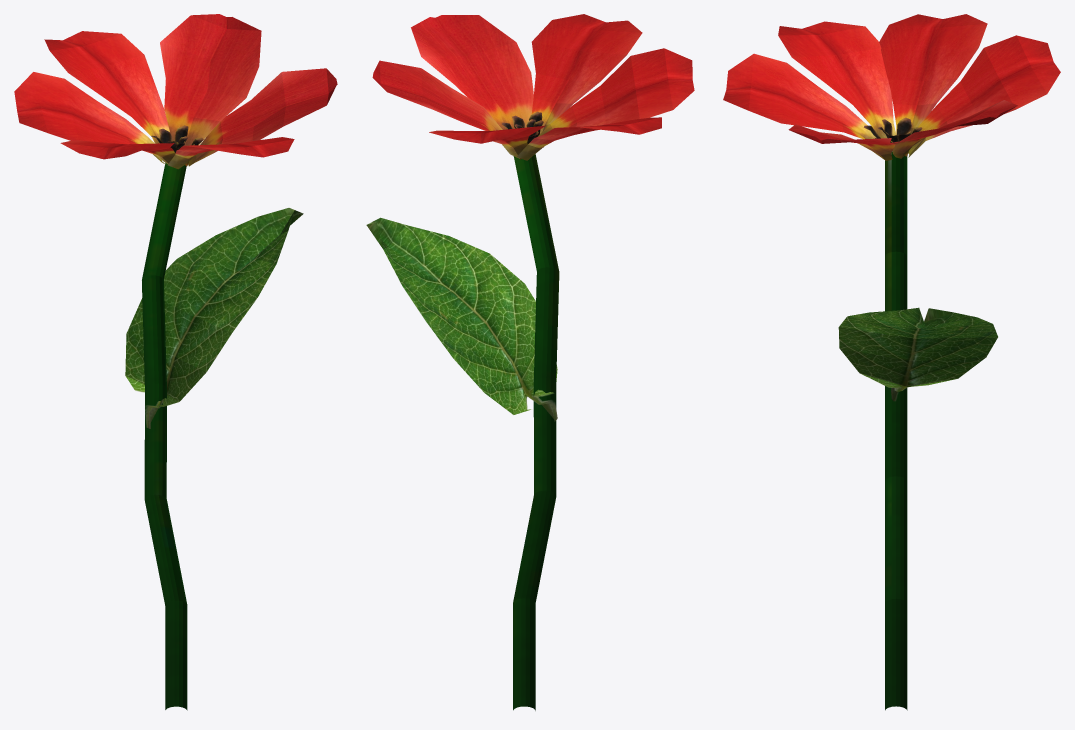
File: floryolahice.glb
3 views of the same model, side by side, from view 1: azimuth 30°, elevation 25°; view 2: azimuth 150°, elevation 25°; view 3: azimuth 270°, elevation 25° (orthographic).
Visible parts, largest first — view 1: Plane.008; view 2: Plane.008; view 3: Plane.008.
Boxes of the visible parts, x1,y1,x2,y2 form: Plane.008: [14, 14, 337, 710]; Plane.008: [366, 14, 694, 710]; Plane.008: [723, 14, 1060, 710].
Size of the model in its own units: 12.56 by 26.58 by 12.61.
6 materials, 6 textured.
